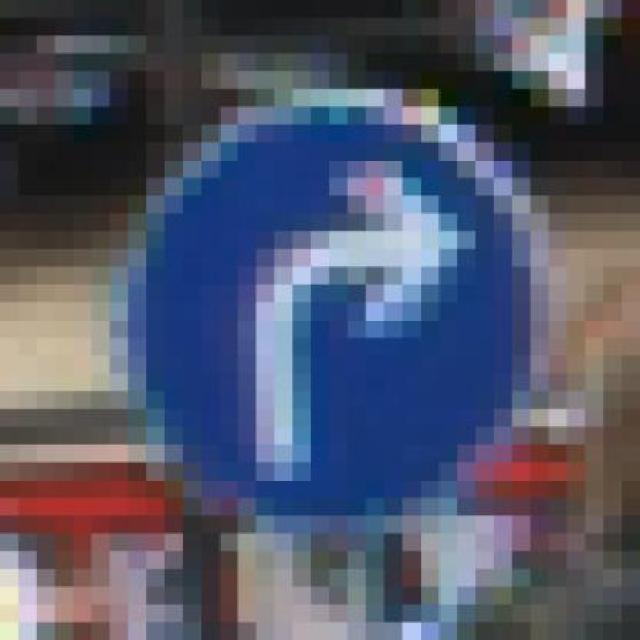Turn right ahead: (91, 71, 548, 551)
